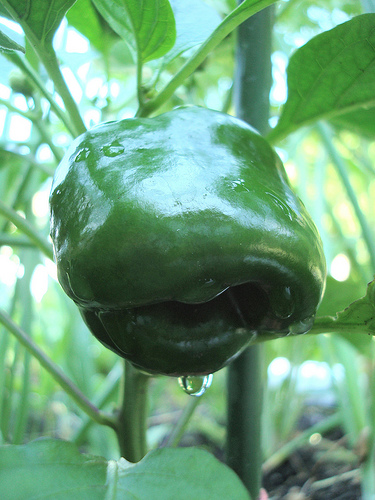capsicum: (50, 101, 328, 377)
